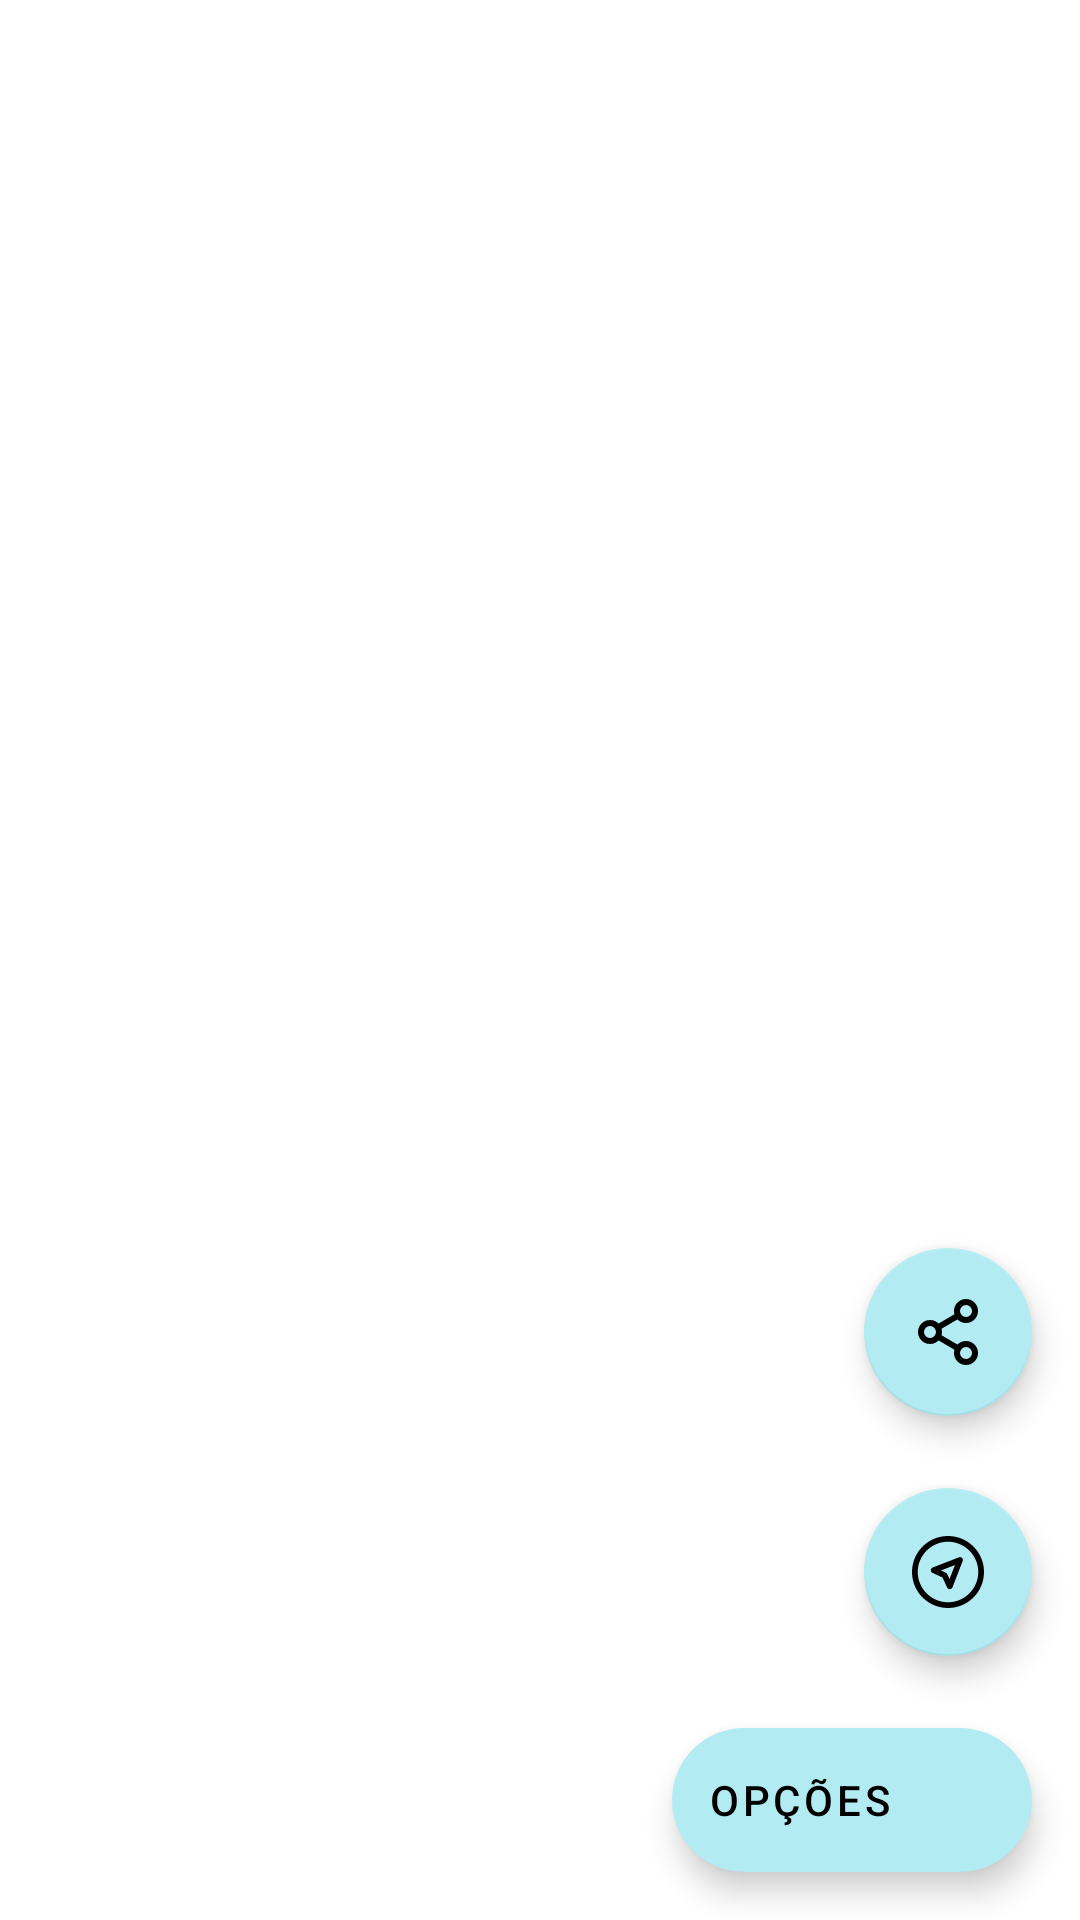

Icon bounding boxes for this 1080*1920 phone screenshot, format (x1, y1, x2, y2):
go to location: (864, 1488, 1032, 1656)
share: (864, 1248, 1032, 1416)
